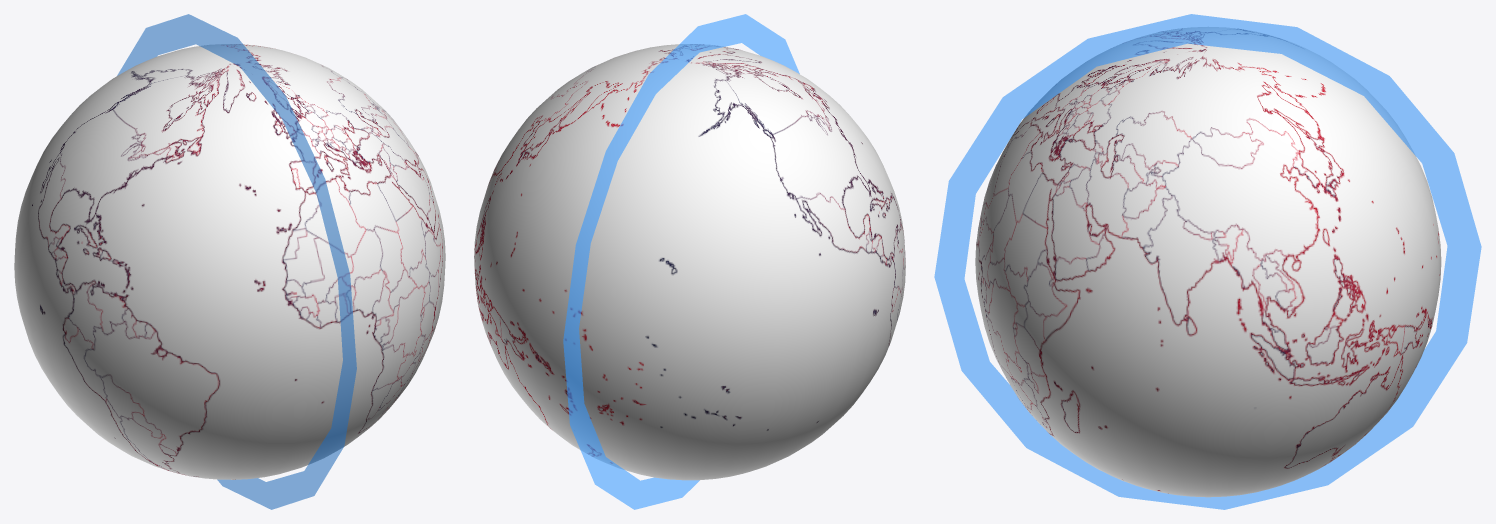
The model's file is Earth.fbx.
The picture shows the model from 3 angles, left to right: view 1: azimuth 30°, elevation 25°; view 2: azimuth 150°, elevation 25°; view 3: azimuth 270°, elevation 25°; orthographic projection. The views are drawn at different scales.
Visible parts, largest first — view 1: EARTH, EarthGlow; view 2: EARTH, EarthGlow; view 3: EARTH, EarthGlow.
Boxes of the visible parts, <box> form: EARTH: <box>14,44,445,479</box>; EarthGlow: <box>117,14,356,509</box>; EARTH: <box>474,44,905,480</box>; EarthGlow: <box>563,14,799,509</box>; EARTH: <box>975,27,1441,497</box>; EarthGlow: <box>934,14,1481,509</box>.
Size of the model in its own units: 0.5922 by 0.6954 by 0.6954.
